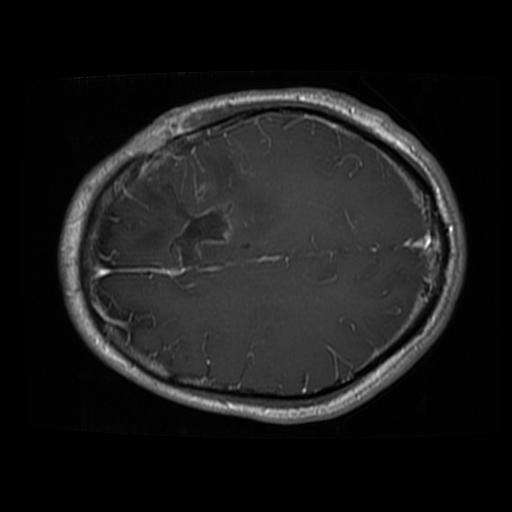glioma: (160, 178, 236, 273)
